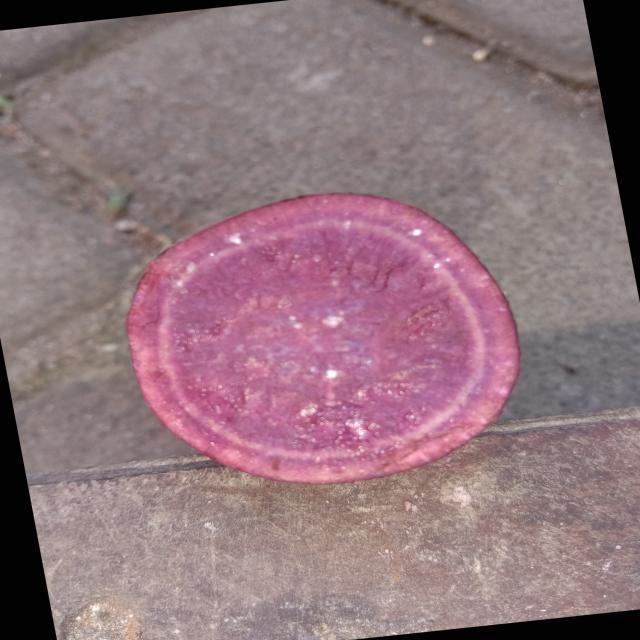Healthy Sweet Potato: (127, 194, 520, 484)
